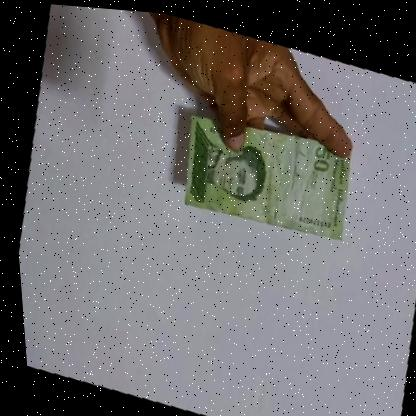fifty-front-vef: (164, 86, 363, 253)
